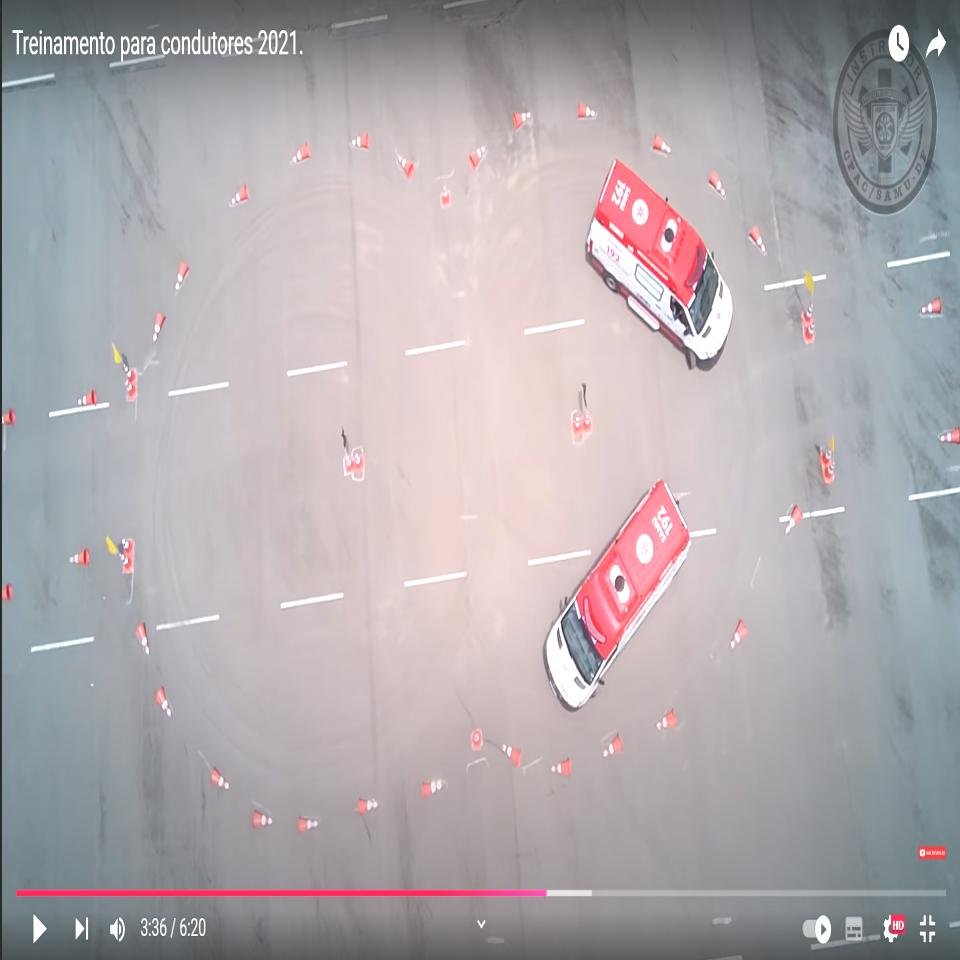ambulancia: (544, 475, 693, 713), (584, 154, 736, 376)
